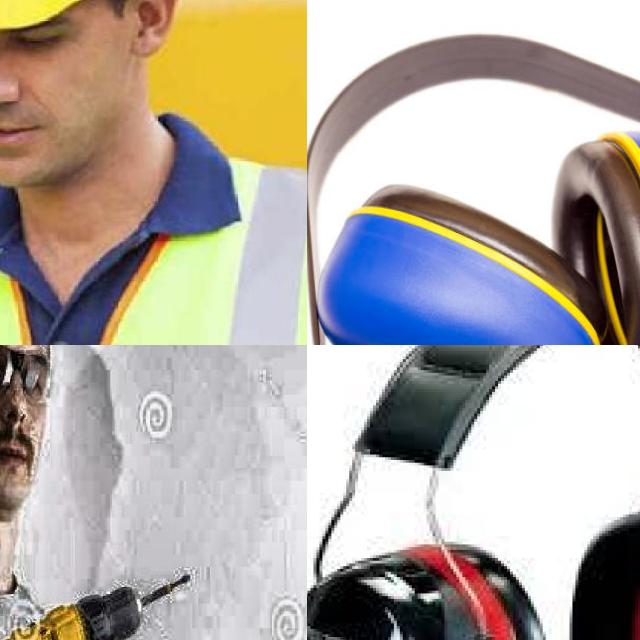Ear-protection: (307, 18, 640, 345), (311, 345, 640, 640)
No_Ear-Protection: (131, 0, 181, 59)
No_Glasses: (0, 11, 82, 78)
face_nomask: (0, 390, 46, 516)
glasses: (0, 346, 50, 401)
